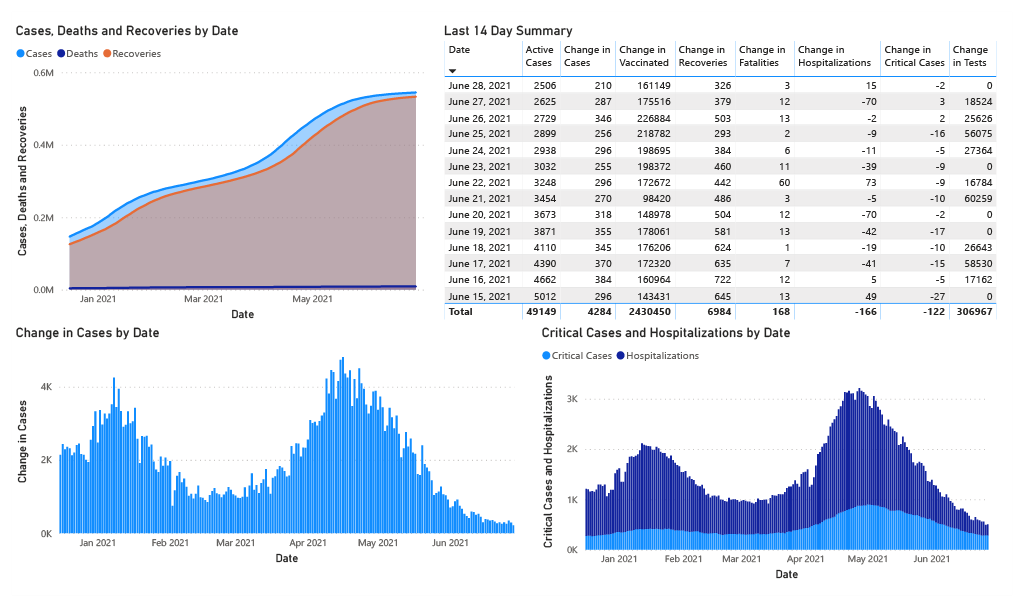

This screenshot's page, from the dashboard's own definition file:
{"tool":"powerbi","page":{"name":"Ontario Disease Rates","canvas":[1280,720],"ordinal":0},"visuals":[{"type":"columnChart","fields":{"Category":["df.Date"],"Y":["Sum(df.total_criticals)","Sum(df.total_hospitalizations)"]},"box":[672.9,386.6,606.6,333.4],"z":0},{"type":"areaChart","fields":{"Category":["df.Date"],"Y":["Sum(df.total_cases)","Sum(df.total_fatalities)","Sum(df.total_recoveries)"]},"box":[0,0,547.9,386.6],"z":1000},{"type":"columnChart","fields":{"Category":["df.Date"],"Y":["Sum(df.change_cases)"]},"box":[0,386.6,672.9,311.8],"z":2000},{"type":"tableEx","title":"Last 14 Day Summary","fields":{"Values":["df.Date","df.Active Cases","Sum(df.change_cases)","Sum(df.change_vaccinated)","Sum(df.change_recoveries)","Sum(df.change_fatalities)","Sum(df.change_hospitalizations)","Sum(df.change_criticals)","Sum(df.change_tests)"]},"box":[547.9,0,732.3,386.6],"z":3000}]}

Visuals, with their boxes on the page's 1280x720 design canvas (x1, y1, x2, y2). These are canvas units, not pixel positions in the 1024x608 screenshot, which may show the page scaled, cropped or inside an application window:
columnChart - df.Date x Sum(df.total_criticals): 673,387,1280,720
areaChart - df.Date x Sum(df.total_cases): 0,0,548,387
columnChart - df.Date x Sum(df.change_cases): 0,387,673,698
"Last 14 Day Summary" tableEx: 548,0,1280,387
